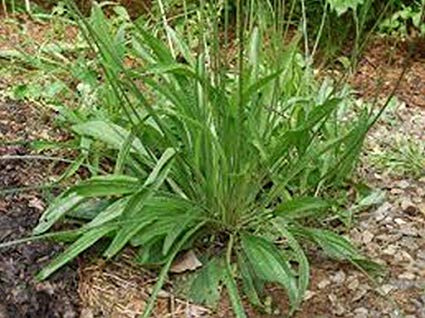buckhorn plantain: (57, 1, 378, 286)
